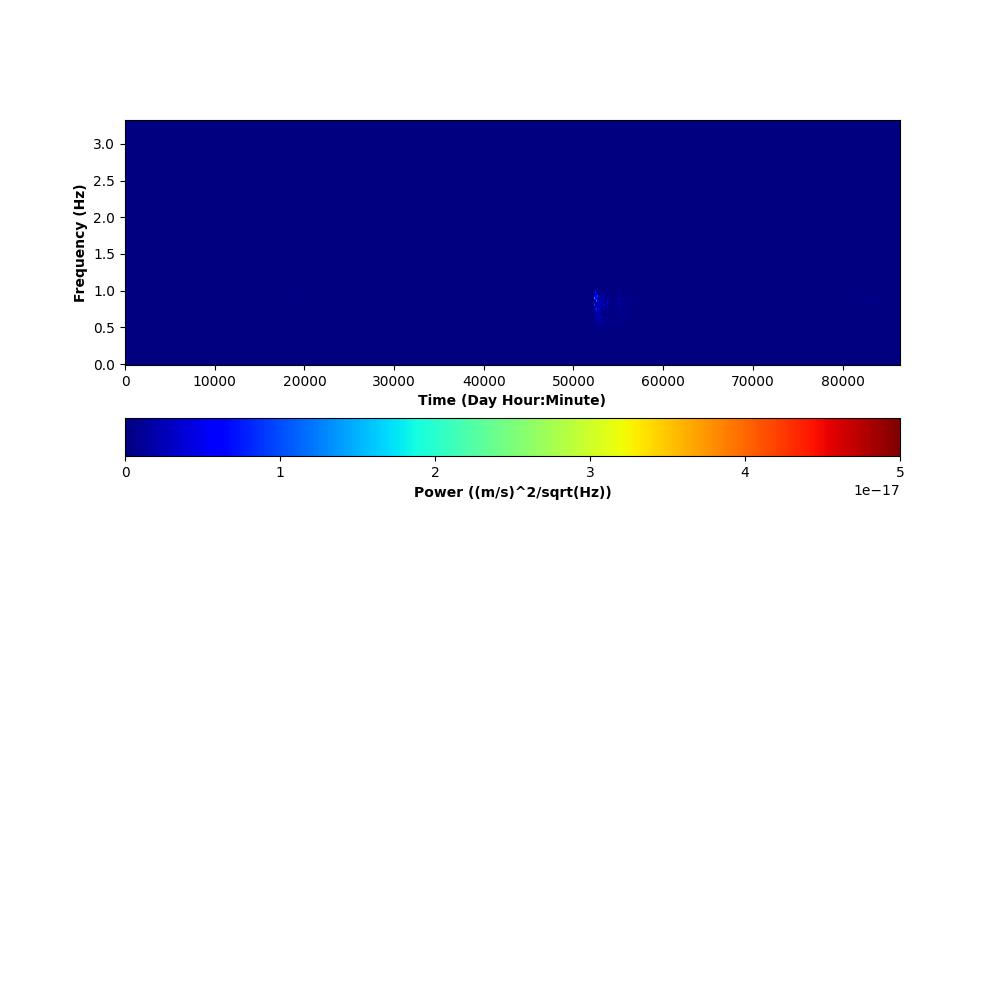Detection: (593, 289, 609, 331), (617, 294, 629, 330)
